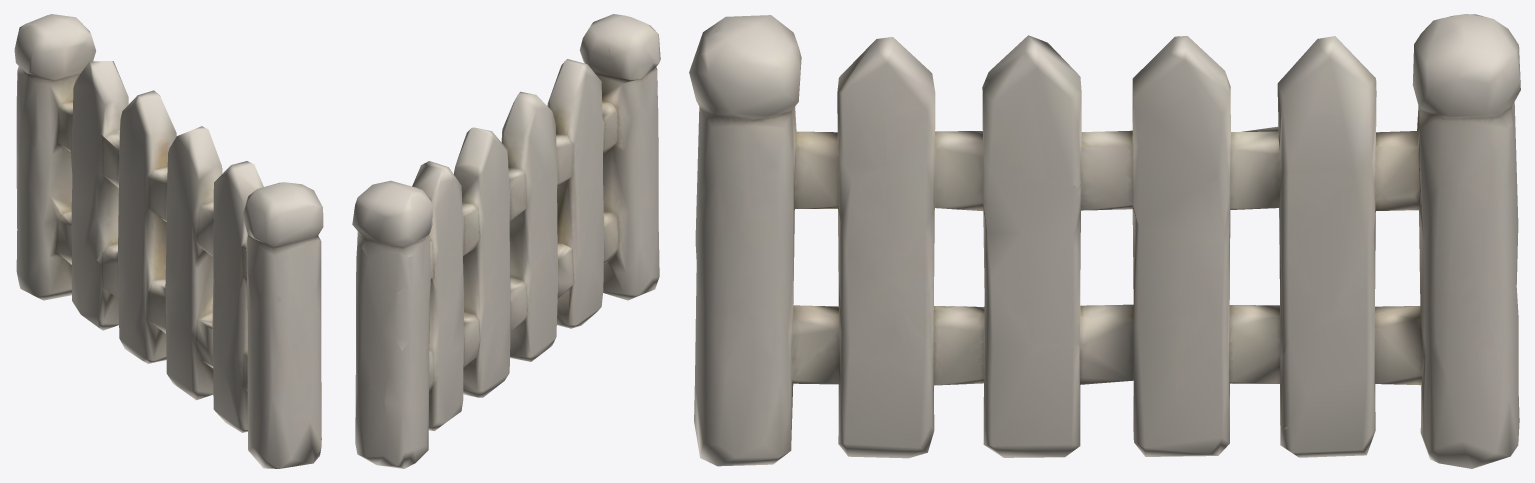
File: fence.glb
3 renders of one model, left to right at view 1: azimuth 30°, elevation 25°; view 2: azimuth 150°, elevation 25°; view 3: azimuth 270°, elevation 25°, orthographic. The views are drawn at different scales.
Parts seen in each view (by area): view 1: tripo_node_f3435dcc-da1d-45ae-bf61-92ddf69d088f; view 2: tripo_node_f3435dcc-da1d-45ae-bf61-92ddf69d088f; view 3: tripo_node_f3435dcc-da1d-45ae-bf61-92ddf69d088f.
Boxes of the visible parts, x1,y1,x2,y2 form: tripo_node_f3435dcc-da1d-45ae-bf61-92ddf69d088f: [14, 14, 323, 468]; tripo_node_f3435dcc-da1d-45ae-bf61-92ddf69d088f: [352, 14, 660, 468]; tripo_node_f3435dcc-da1d-45ae-bf61-92ddf69d088f: [689, 14, 1520, 468].
Size of the model in its own units: 0.1451 by 0.5653 by 1.
1 material, 1 textured.
